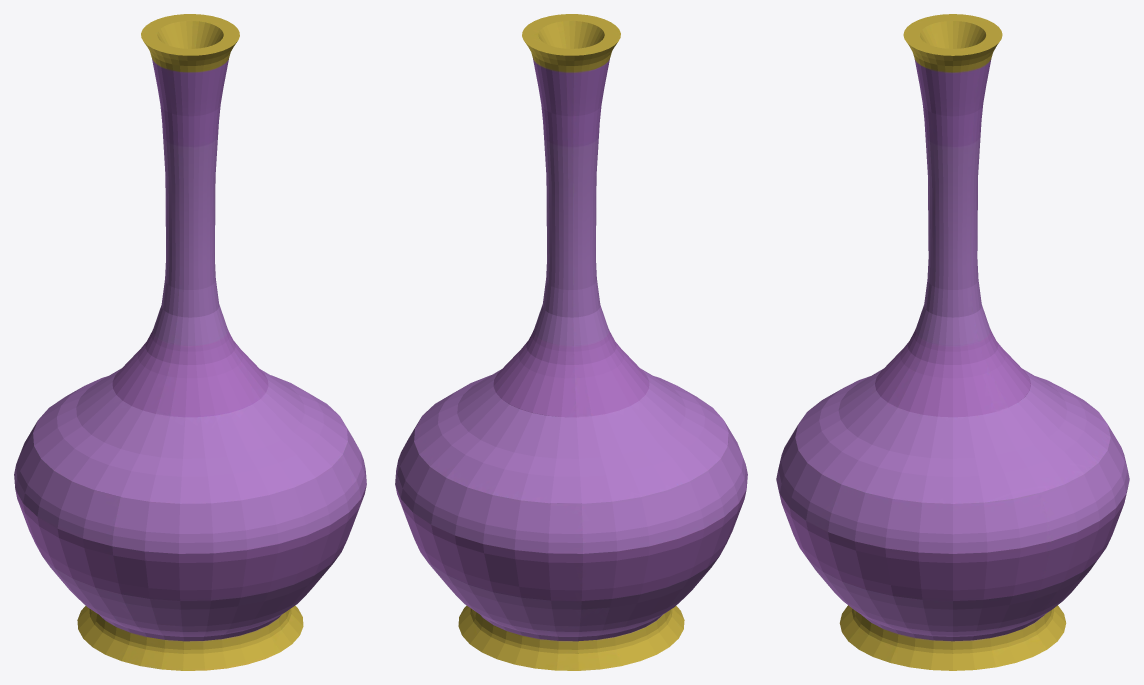
File: vasecprsd.glb
The picture shows the model from 3 angles, left to right: view 1: azimuth 30°, elevation 25°; view 2: azimuth 150°, elevation 25°; view 3: azimuth 270°, elevation 25°; orthographic projection.
Visible parts, largest first — view 1: Cylinder.001; view 2: Cylinder.001; view 3: Cylinder.001.
Part boxes in pixels (x1,y1,x2,y2): Cylinder.001: [14, 14, 366, 670]; Cylinder.001: [395, 14, 747, 670]; Cylinder.001: [776, 14, 1129, 670].
Size of the model in its own units: 2.4 by 4.41 by 2.4.
Materials: 1 (1 with a texture image).
